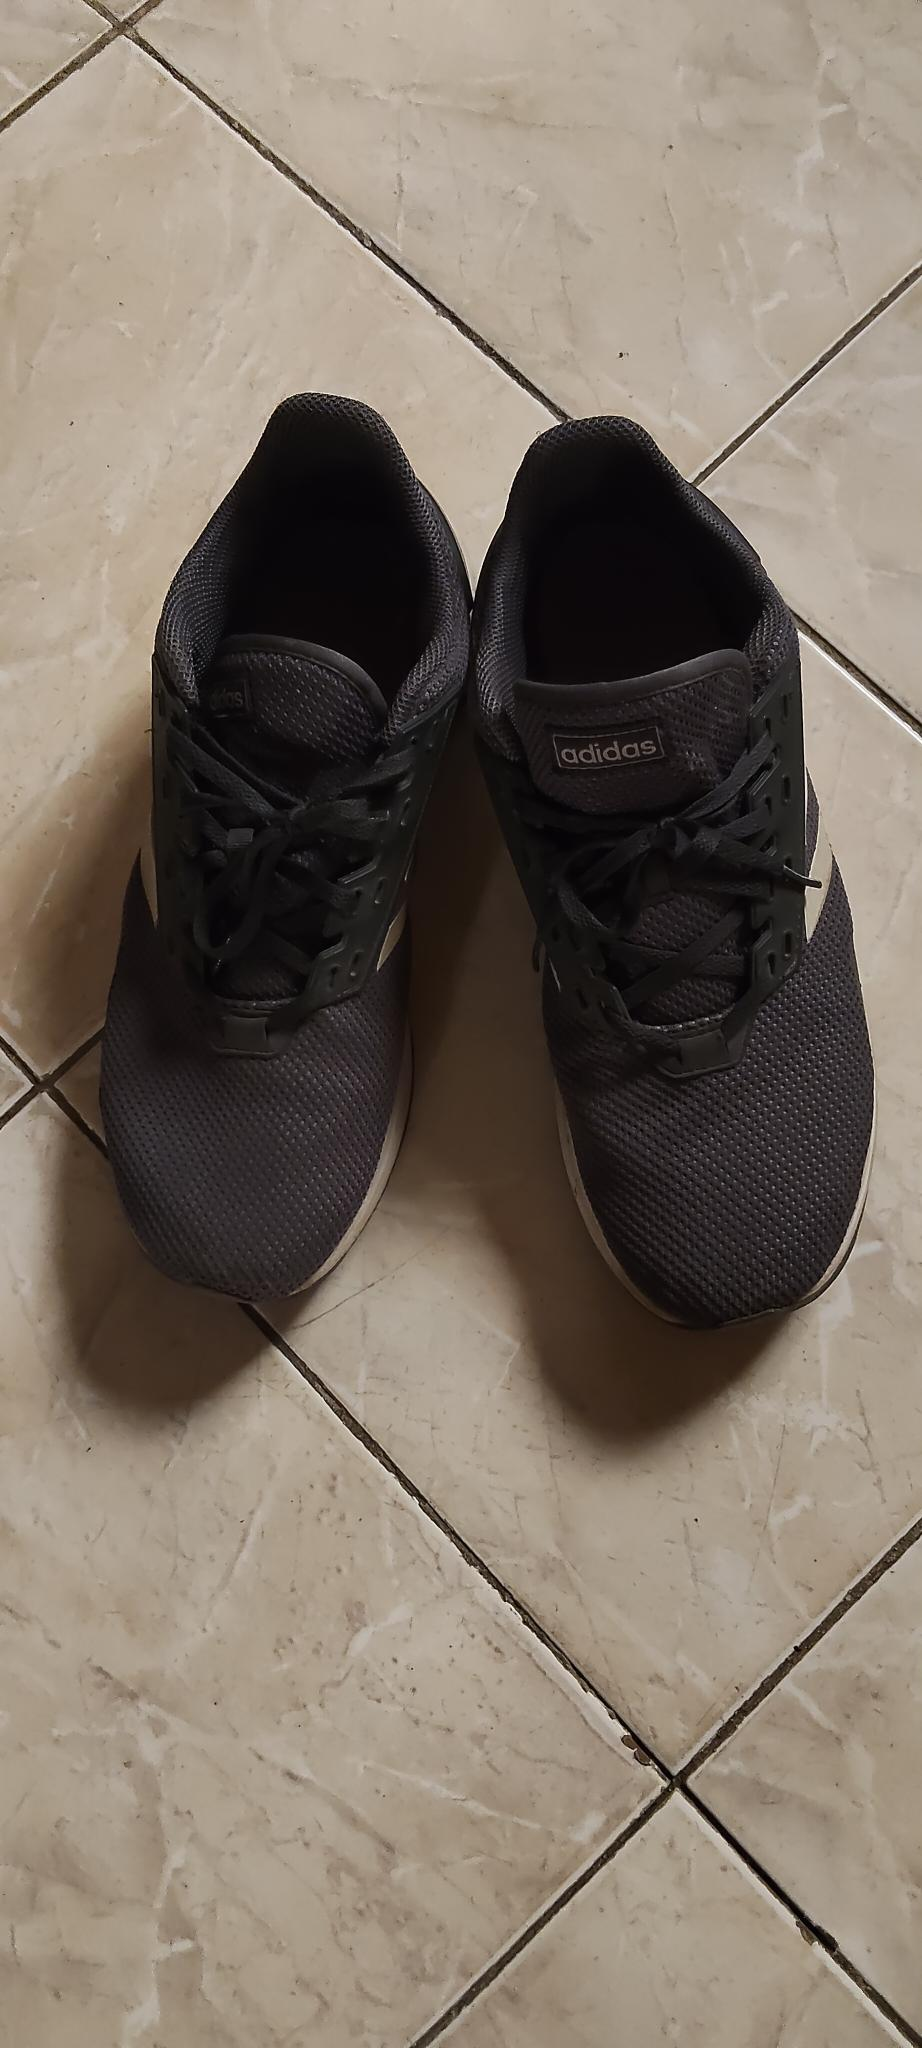Shoes: (472, 415, 880, 1328), (105, 388, 477, 1303)
